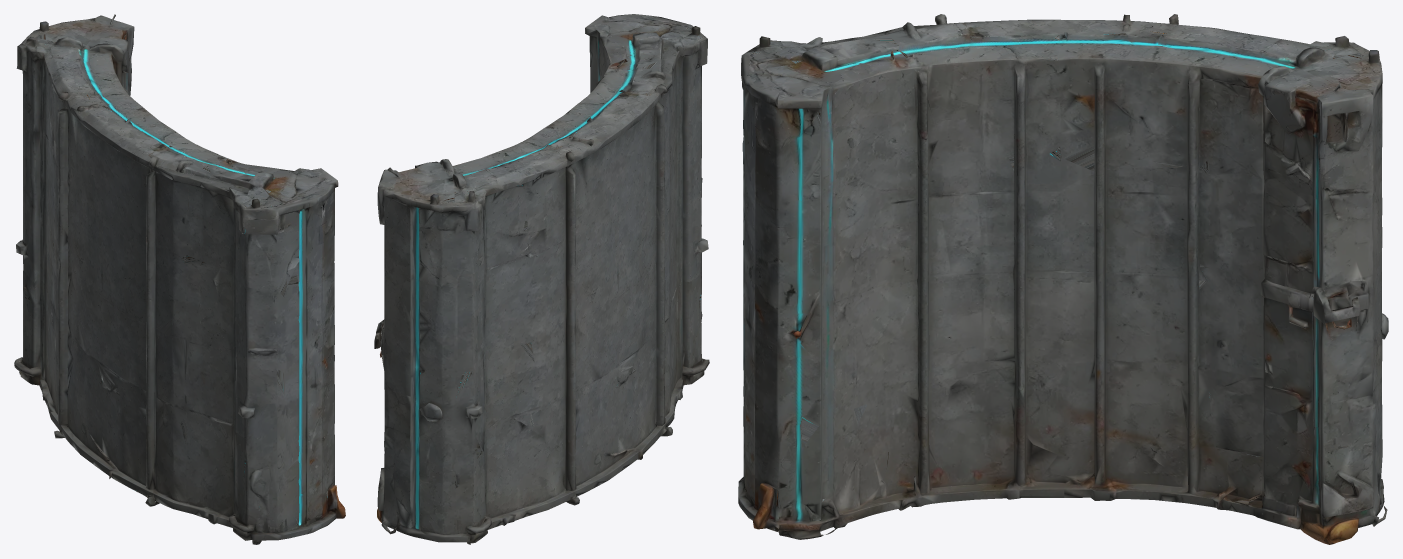
The model's file is wall_arc.glb.
3 views of the same model, side by side, from view 1: azimuth 30°, elevation 25°; view 2: azimuth 150°, elevation 25°; view 3: azimuth 270°, elevation 25° (orthographic). The views are drawn at different scales.
Parts seen in each view (by area): view 1: tripo_node_0048bc8e-5109-4261-8453-ff076c7015c2; view 2: tripo_node_0048bc8e-5109-4261-8453-ff076c7015c2; view 3: tripo_node_0048bc8e-5109-4261-8453-ff076c7015c2.
Boxes of the visible parts, bbox=[...] form: tripo_node_0048bc8e-5109-4261-8453-ff076c7015c2: bbox=[14, 14, 345, 544]; tripo_node_0048bc8e-5109-4261-8453-ff076c7015c2: bbox=[374, 14, 709, 544]; tripo_node_0048bc8e-5109-4261-8453-ff076c7015c2: bbox=[738, 14, 1388, 544].
Bounding box in the file's own units: 0.3154 × 0.7266 × 0.9354.
Materials: 1 (1 with a texture image).
